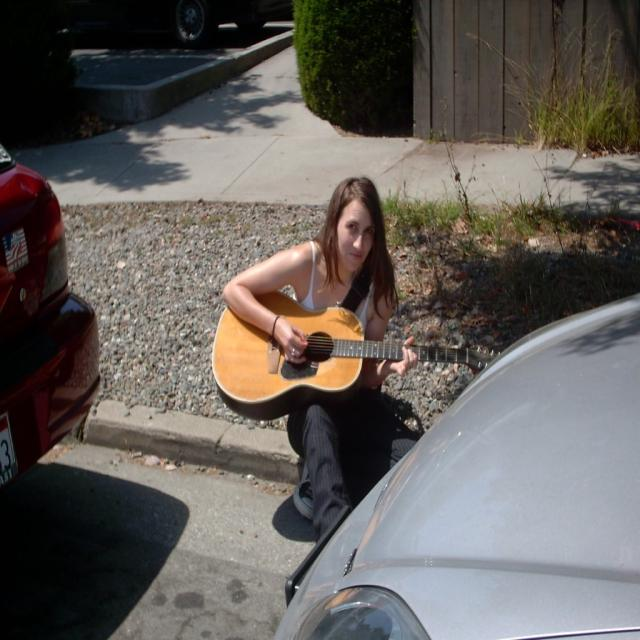guitar: (209, 288, 505, 426)
